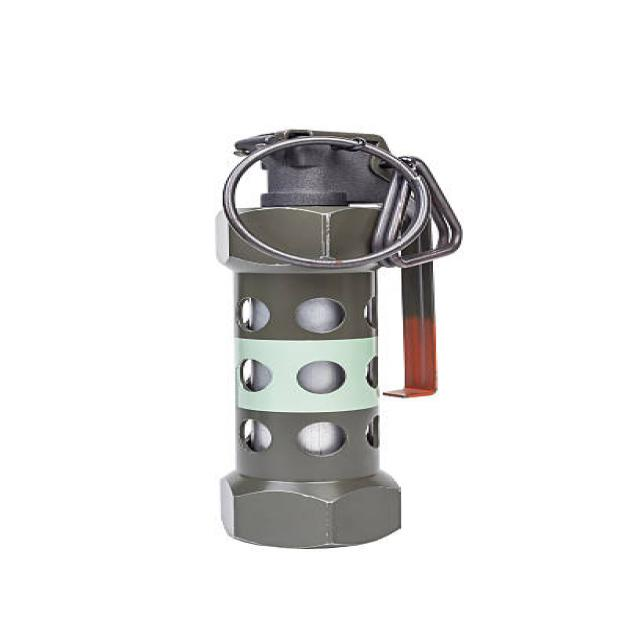grenade: (202, 121, 477, 550)
